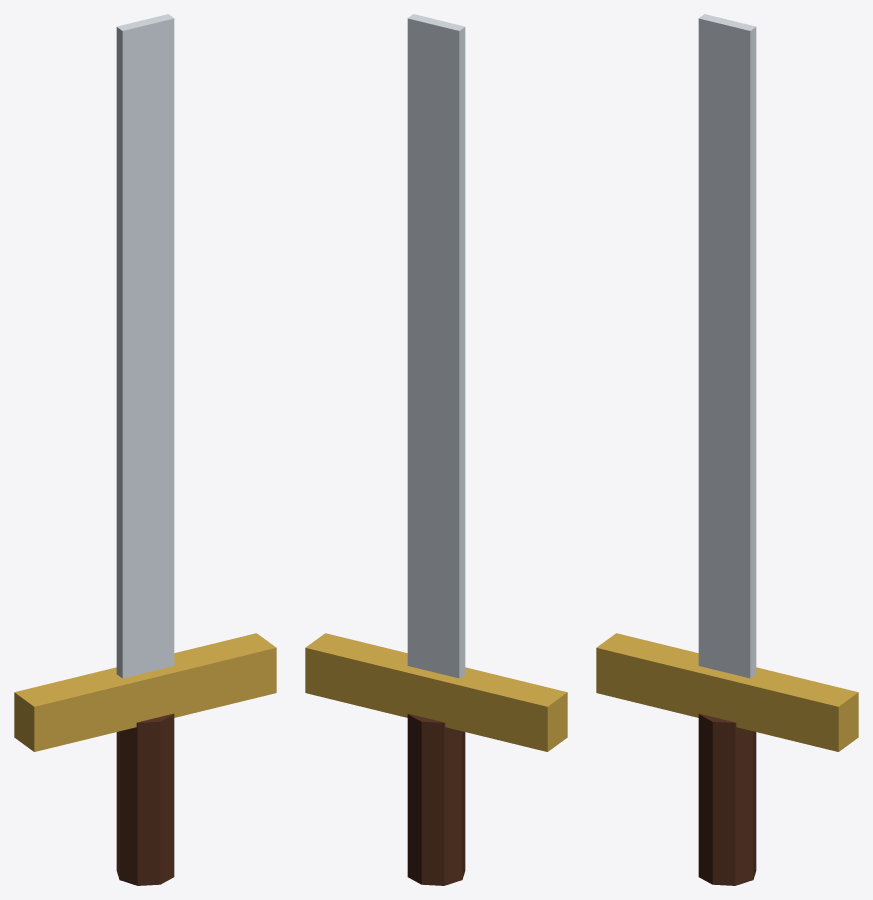
Rendered from icon_sword.glb.
The picture shows the model from 3 angles, left to right: view 1: azimuth 30°, elevation 25°; view 2: azimuth 150°, elevation 25°; view 3: azimuth 330°, elevation 25°; orthographic projection.
Parts seen in each view (by area): view 1: blade, guard, grip; view 2: blade, guard, grip; view 3: blade, guard, grip.
Boxes of the visible parts, <box> form: blade: <box>116,14,174,678</box>; guard: <box>14,633,276,751</box>; grip: <box>116,713,174,885</box>; blade: <box>407,14,465,678</box>; guard: <box>305,633,567,751</box>; grip: <box>407,713,465,885</box>; blade: <box>698,14,756,678</box>; guard: <box>596,633,858,751</box>; grip: <box>698,713,756,885</box>.
Size of the model in its own units: 0.14 by 0.47 by 0.03.
